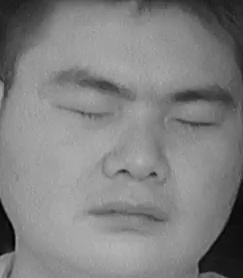blink: (56, 89, 113, 129), (174, 106, 219, 140)
mouth: (88, 191, 170, 237)
